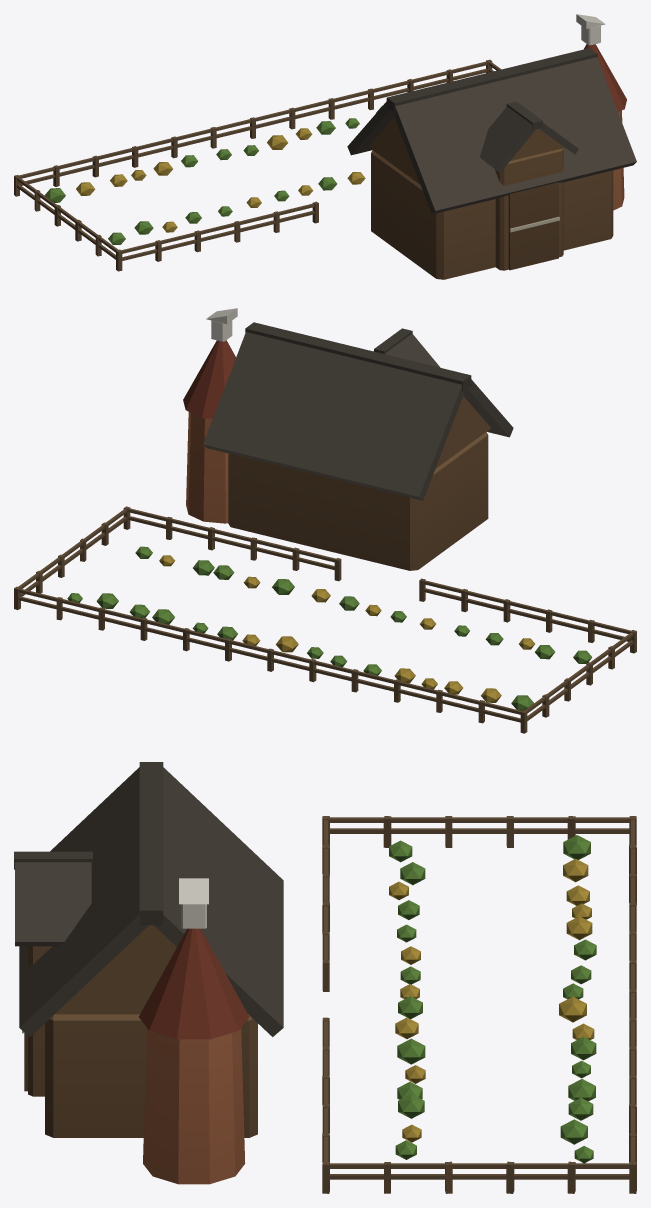
File: farm.glb
3 views of the same model, one above another, from view 1: azimuth 30°, elevation 25°; view 2: azimuth 150°, elevation 25°; view 3: azimuth 270°, elevation 25° (orthographic). The views are drawn at different scales.
Parts seen in each view (by area): view 1: farm_model; view 2: farm_model; view 3: farm_model.
Part boxes in pixels (box(x1,y1,x2,y2)): farm_model: box(14, 14, 636, 279); farm_model: box(14, 308, 636, 733); farm_model: box(14, 762, 636, 1193).
Size of the model in its own units: 1.94 by 0.72 by 1.46.
